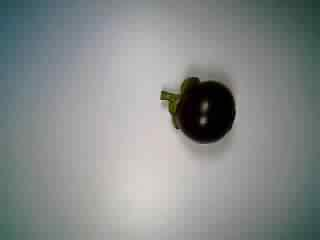mangosteen: (155, 68, 236, 148)
